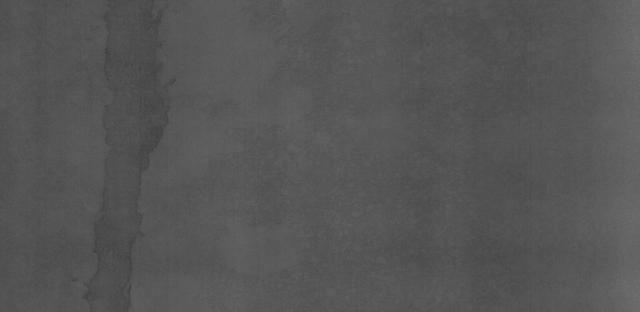water_spot: (81, 1, 200, 310)
